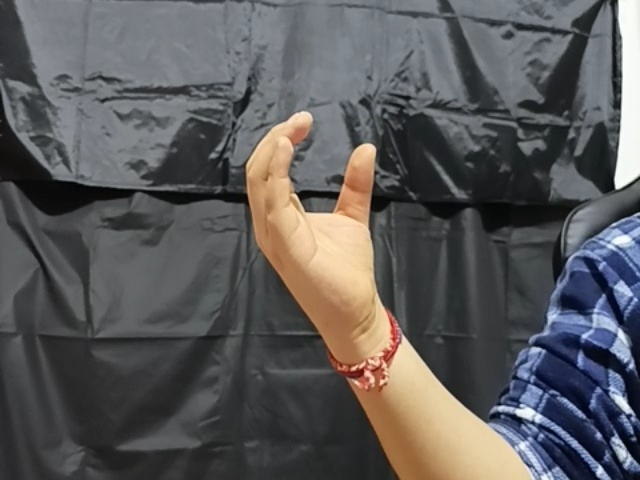C: (242, 109, 403, 336)
